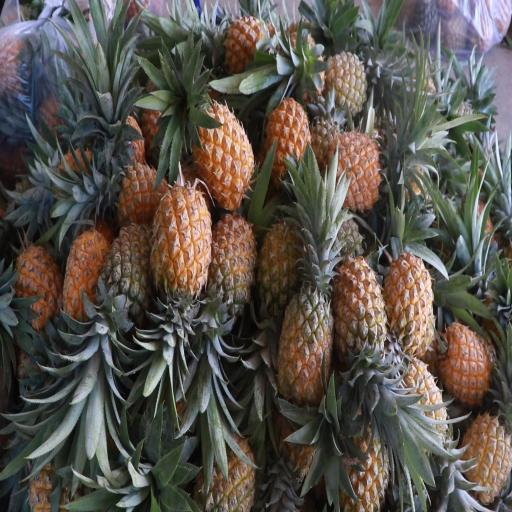------------------------------: (275, 262, 338, 403), (100, 217, 158, 332), (254, 196, 304, 311), (193, 423, 256, 512), (318, 44, 369, 123)
Pineapple - v8 v1: (145, 177, 213, 312), (189, 92, 254, 216), (378, 246, 440, 367), (331, 255, 385, 388), (201, 188, 255, 315), (102, 158, 178, 246), (330, 409, 391, 512), (318, 120, 387, 210), (62, 217, 111, 338), (8, 234, 61, 342), (259, 89, 311, 194), (434, 310, 492, 404), (459, 412, 512, 512), (214, 12, 270, 82)
